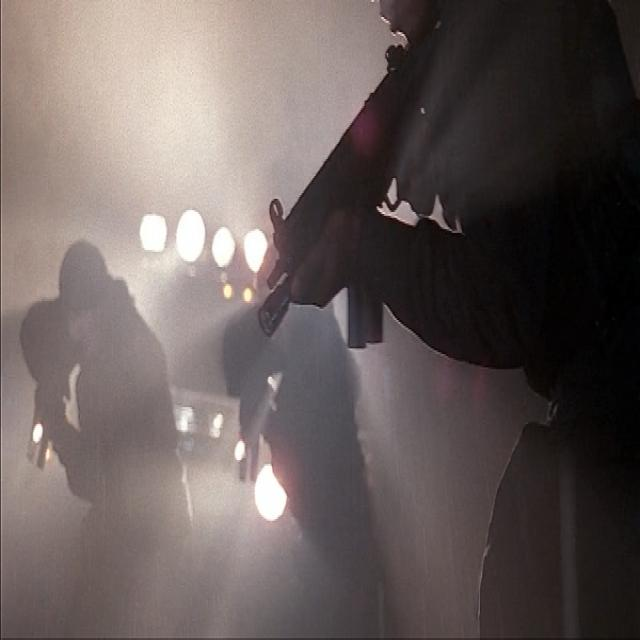rifle: (256, 40, 440, 364)
